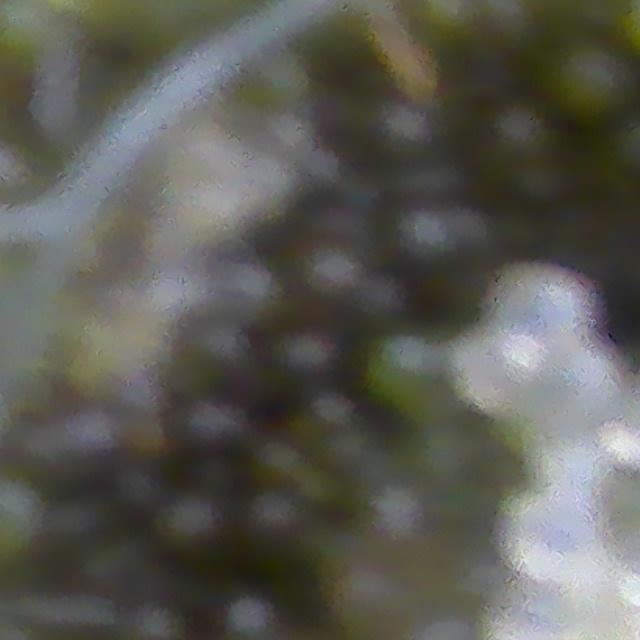SeaGrape: (484, 261, 594, 366), (497, 484, 606, 582), (448, 323, 539, 420), (538, 341, 621, 430), (366, 331, 450, 413), (551, 40, 632, 121), (523, 420, 605, 492), (238, 494, 307, 562), (157, 493, 226, 560), (270, 333, 336, 386), (174, 401, 241, 451)
